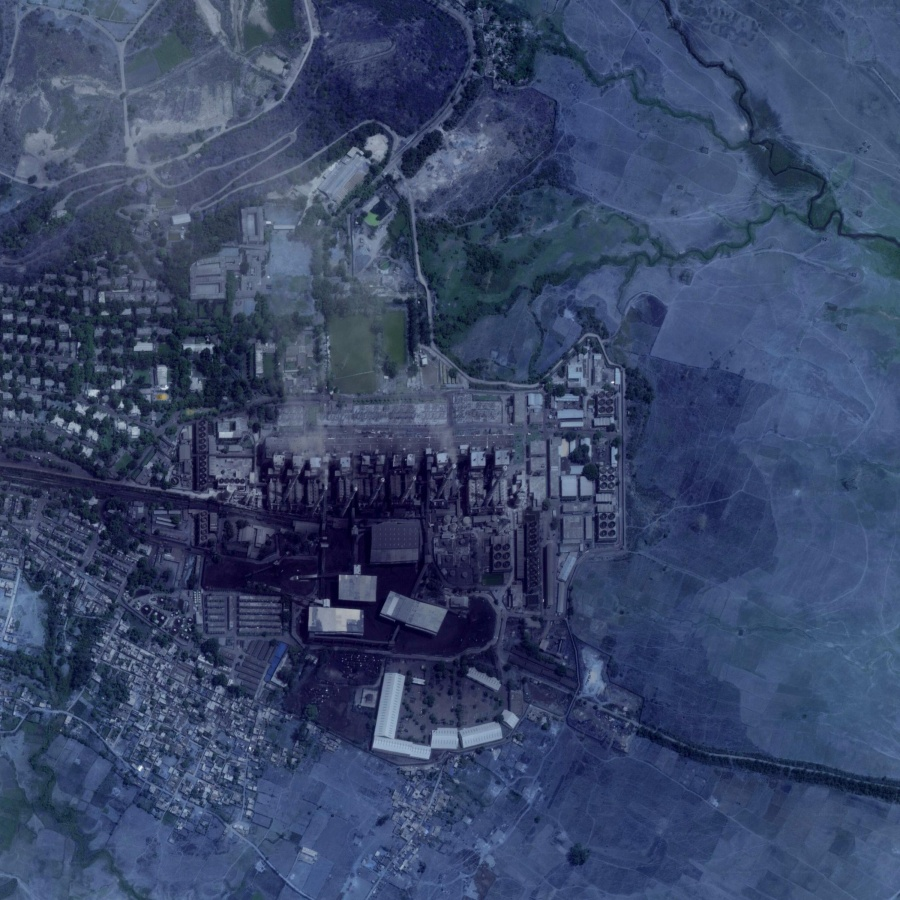PowerPlant: (203, 315, 626, 665)
